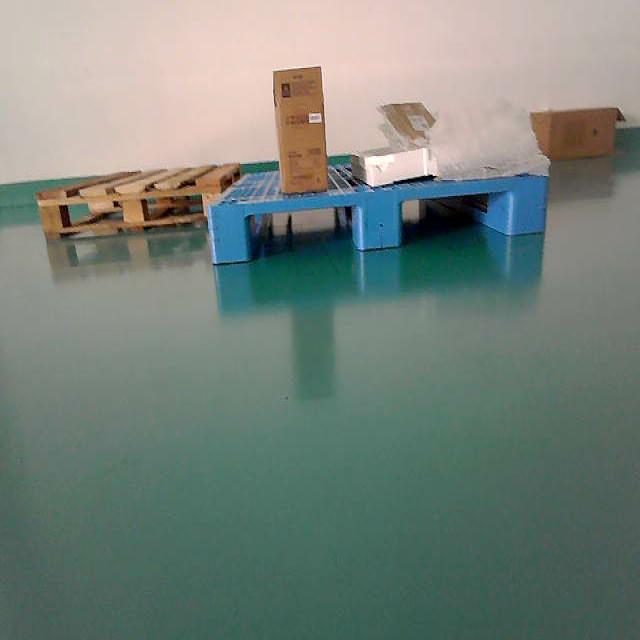euro: (38, 164, 240, 236)
